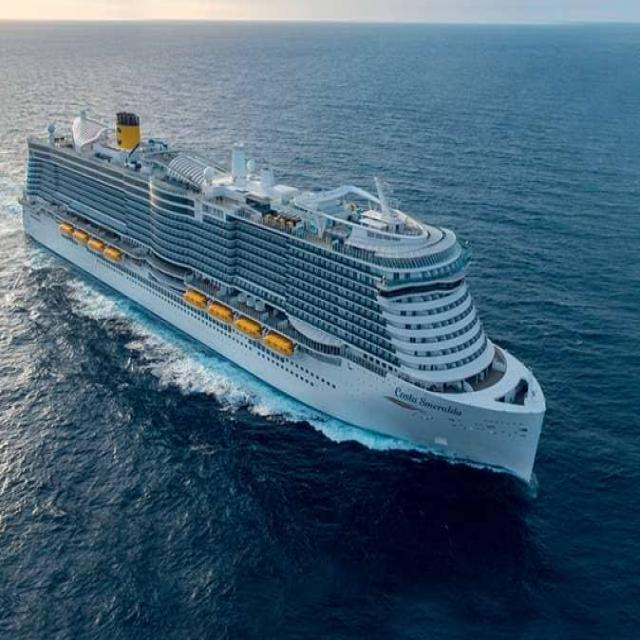passenger ship: (19, 103, 545, 492)
